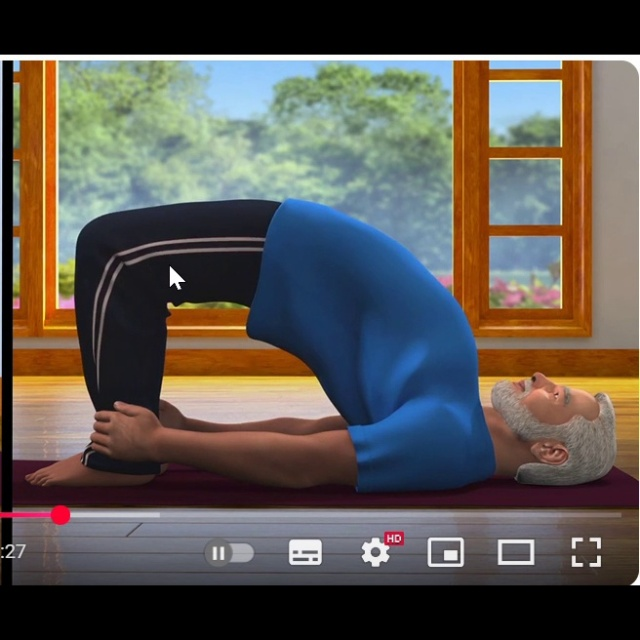Bridge_Pose: (22, 197, 619, 496)
